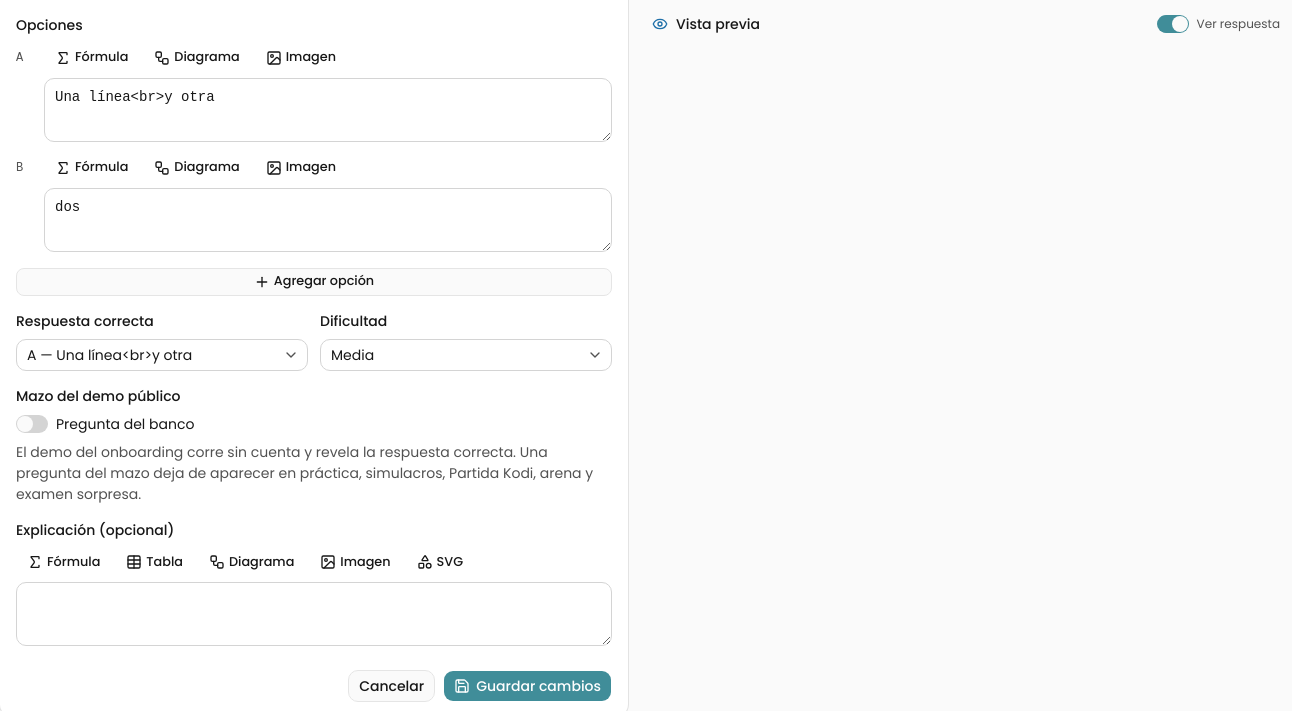
QuestionForm — contenido que la app no puede dibujar › no guarda con HTML crudo en una opción y explica qué usar
The width and height of the screenshot is (1292, 711).
(page scrolled)
Click the button "Guardar cambios": x=528, y=686 [443, 670, 612, 702]
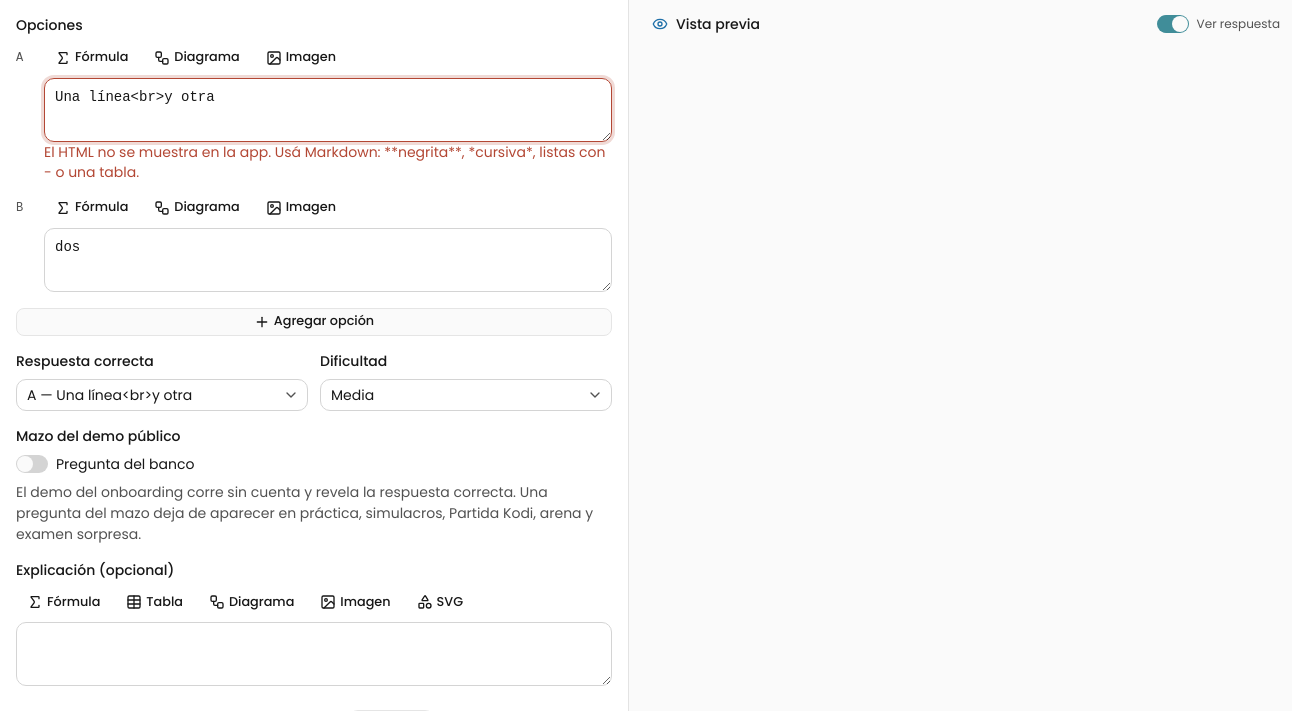
Now the text "El HTML no se muestra en la app" is shown, box [44, 142, 606, 182]
